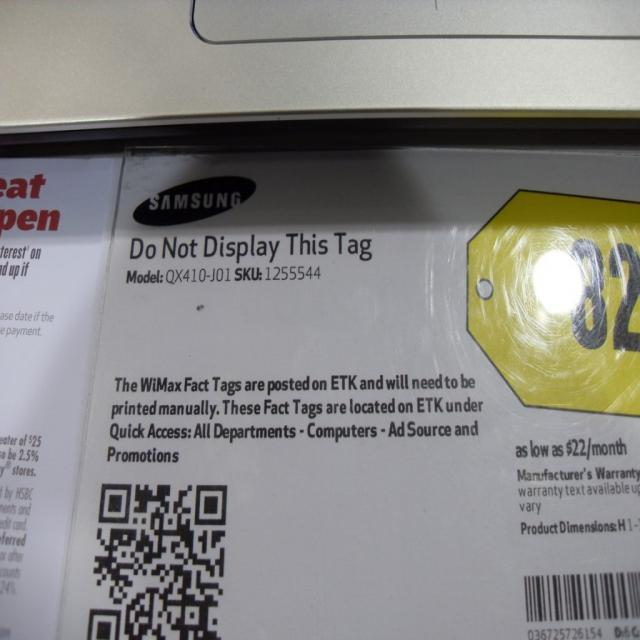qr_code: (86, 483, 226, 640)
